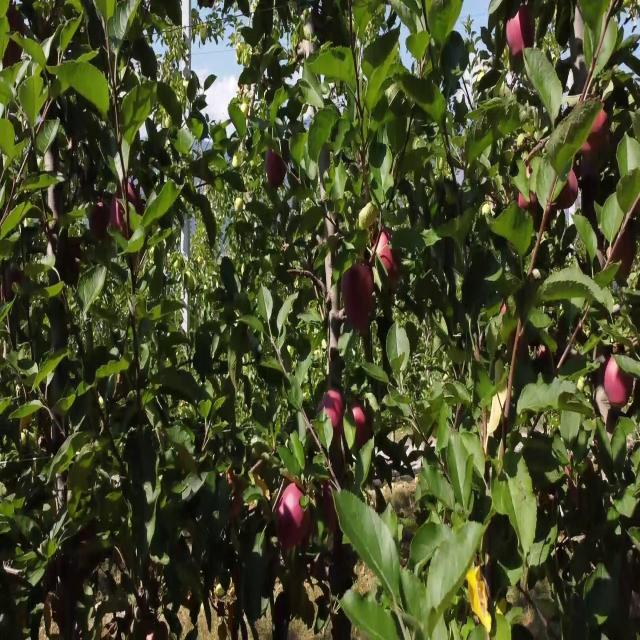apple: (276, 490, 310, 553), (372, 234, 403, 295), (344, 263, 376, 318), (112, 184, 143, 240), (604, 355, 634, 409), (508, 7, 537, 57), (552, 170, 580, 213), (612, 227, 636, 277), (320, 391, 345, 436), (316, 490, 339, 537), (348, 405, 371, 450), (524, 142, 546, 180), (268, 149, 288, 190), (92, 199, 111, 242), (4, 270, 26, 300), (348, 311, 371, 336), (4, 42, 23, 69), (8, 7, 26, 34), (520, 191, 535, 213)
